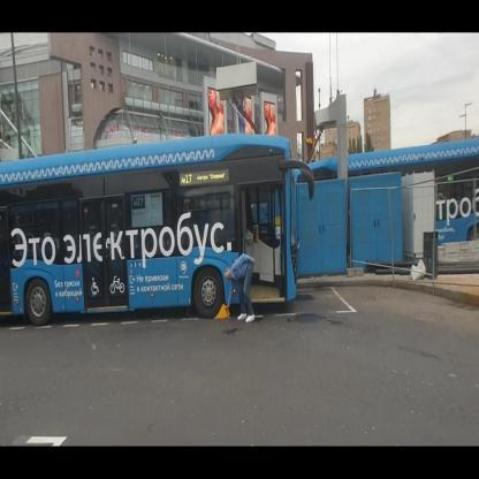bus: (0, 127, 316, 324)
